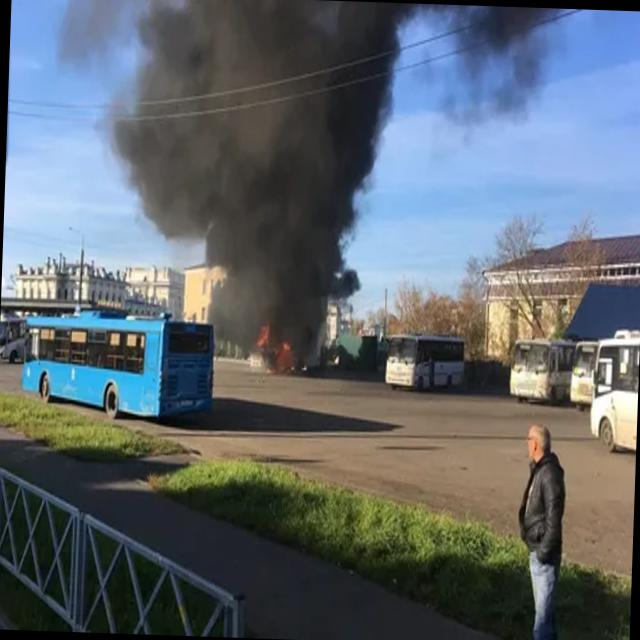Smoke: (94, 0, 422, 339)
